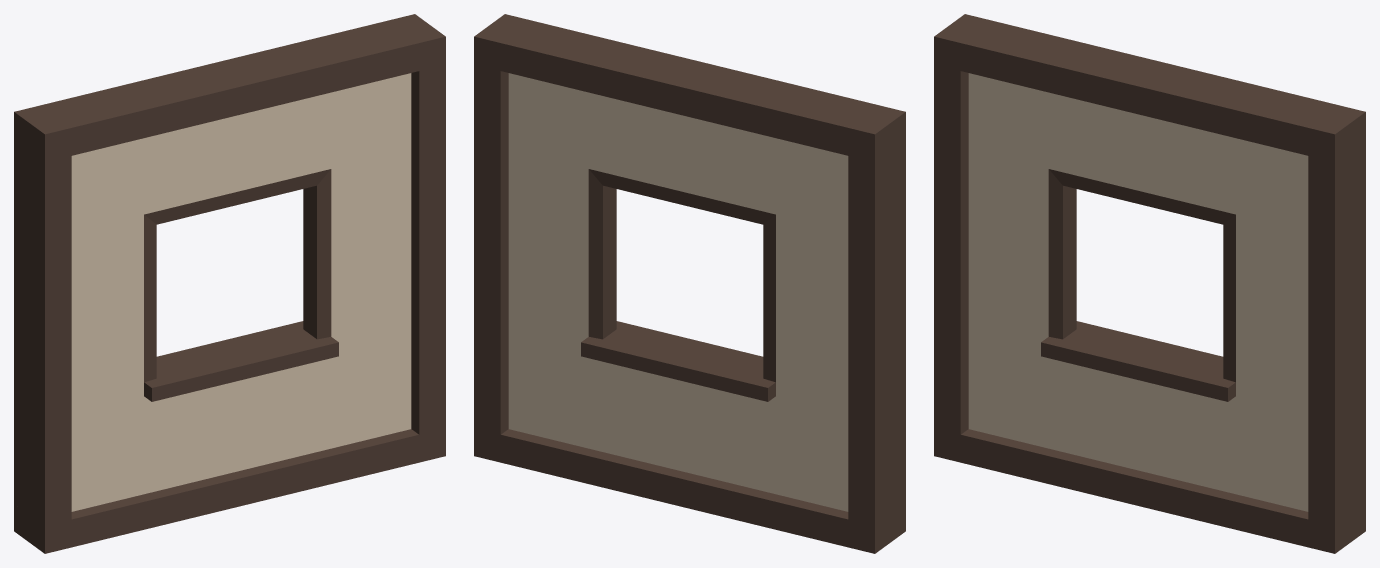
File: fantasy_wall_3_window.fbx
3 views of the same model, side by side, from view 1: azimuth 30°, elevation 25°; view 2: azimuth 150°, elevation 25°; view 3: azimuth 330°, elevation 25° (orthographic).
Parts seen in each view (by area): view 1: Cube.026; view 2: Cube.026; view 3: Cube.026.
Part boxes in pixels (<box>): Cube.026: <box>14,14,445,553</box>; Cube.026: <box>474,14,905,553</box>; Cube.026: <box>934,14,1365,553</box>.
Bounding box in the file's own units: 300 × 300 × 40.
